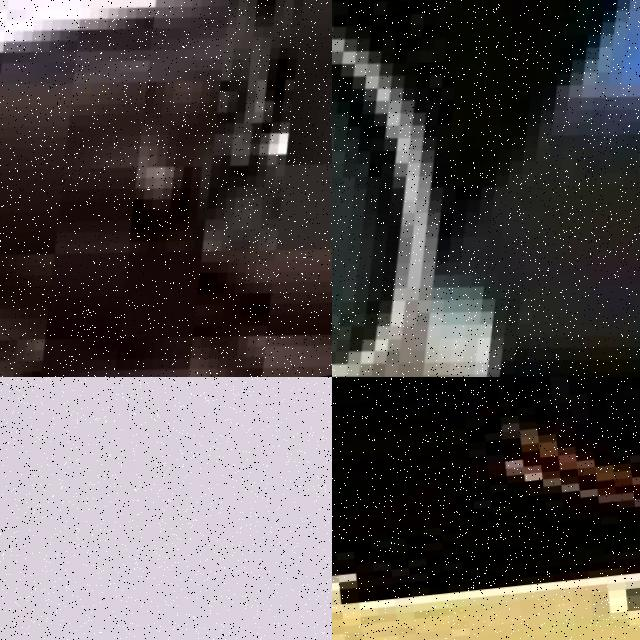0: (0, 0, 332, 377)
drone: (332, 0, 640, 377)
